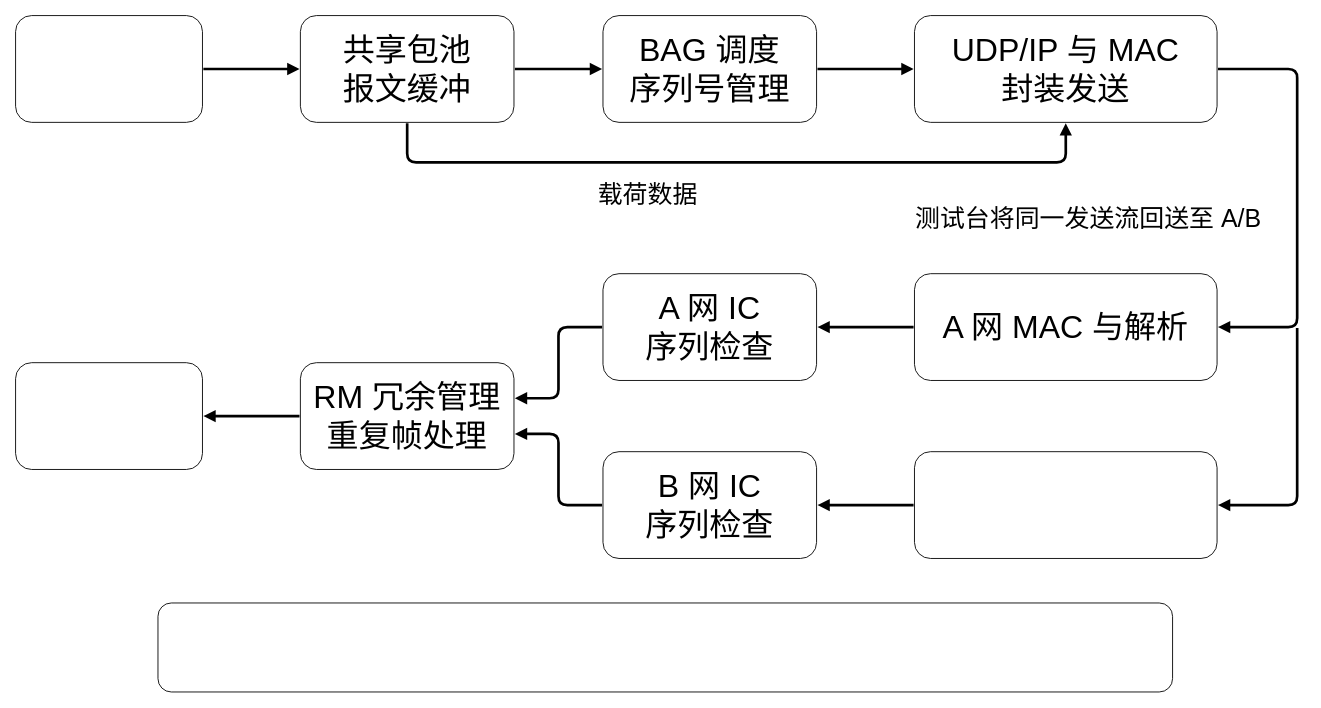
Some shapes in this 1321 by 708 pixel diagram are drawn without their labels. The centre of each missing label's shape, as x and y in pixels:
"B 网 MAC 与解析" belongs at point 1065,504.
"应用发送 消息与数据" belongs at point 108,68.
"应用接收 有效载荷" belongs at point 108,415.
"独立管理切片与 wrapper 验证 SNMP 查询 / 计数快照 / RTC 只读" belongs at point 665,647.
